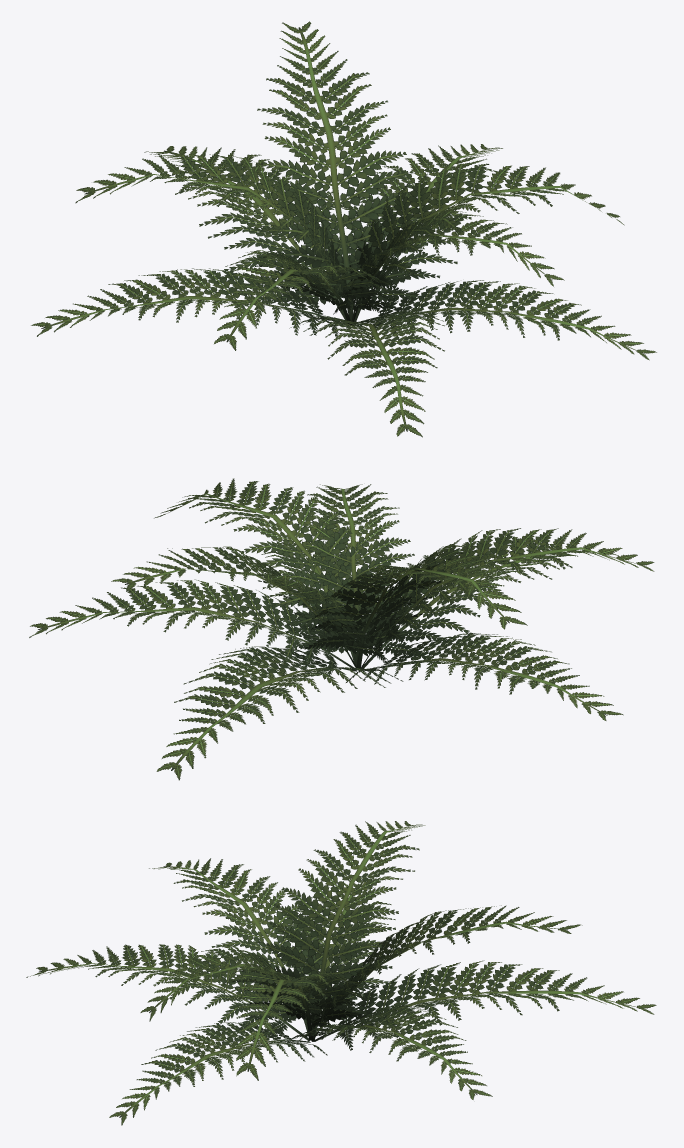
File: Fern_01.FBX
3 views of the same model, one above another, from view 1: azimuth 30°, elevation 25°; view 2: azimuth 150°, elevation 25°; view 3: azimuth 270°, elevation 25° (orthographic). The views are drawn at different scales.
Parts seen in each view (by area): view 1: Fern_01; view 2: Fern_01; view 3: Fern_01.
Part boxes in pixels (x1=…): Fern_01: x1=31, y1=21, x2=656, y2=437; Fern_01: x1=29, y1=478, x2=654, y2=780; Fern_01: x1=26, y1=821, x2=656, y2=1125.
Size of the model in its own units: 1.55 by 0.4621 by 1.77.
1 material, 1 textured.
